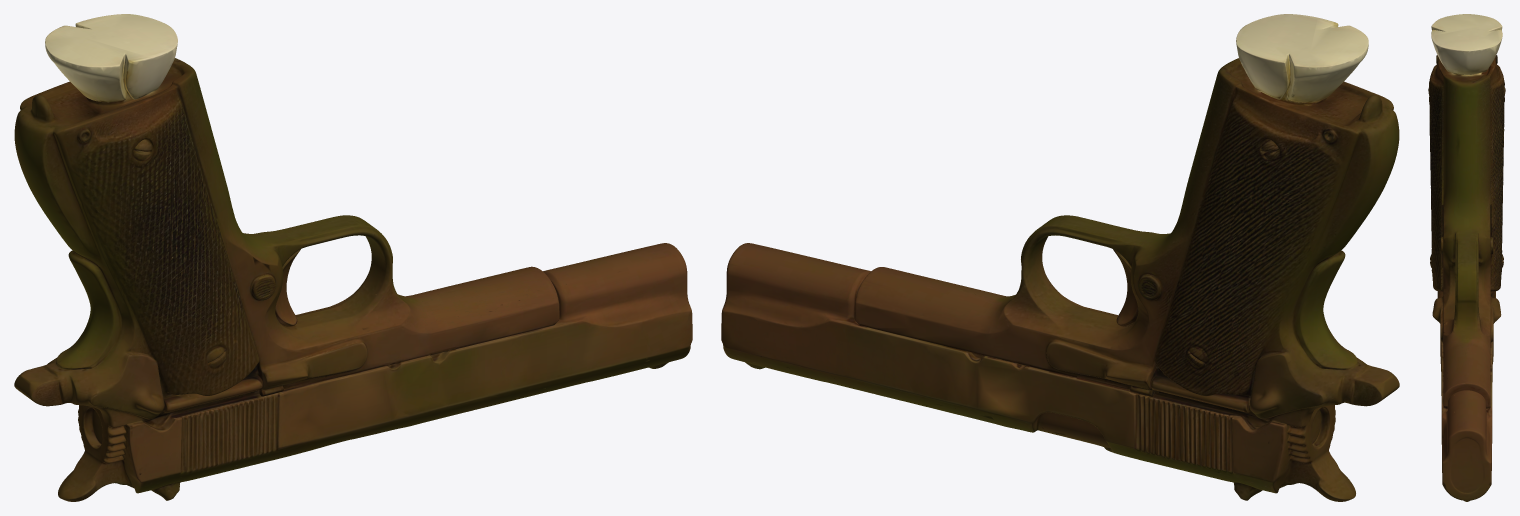
The picture shows the model from 3 angles, left to right: view 1: azimuth 30°, elevation 25°; view 2: azimuth 150°, elevation 25°; view 3: azimuth 270°, elevation 25°; orthographic projection. The views are drawn at different scales.
Parts seen in each view (by area): view 1: node_0; view 2: node_0; view 3: node_0.
Part boxes in pixels (x1,y1,x2,y2): node_0: [14, 14, 692, 501]; node_0: [721, 14, 1399, 501]; node_0: [1428, 14, 1505, 501].
Size of the model in its own units: 1.01 by 0.6882 by 0.1604.
Materials: 1 (1 with a texture image).
